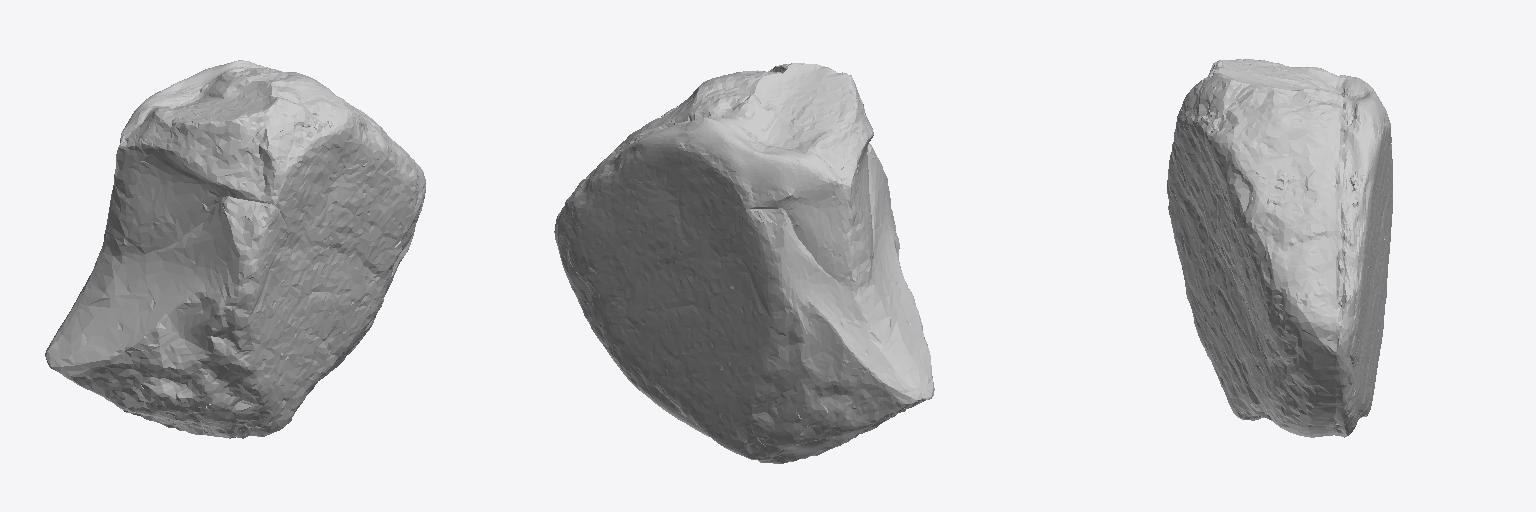
The model's file is waterfall_rock1.obj.
3 renders of one model, left to right at view 1: azimuth 30°, elevation 25°; view 2: azimuth 150°, elevation 25°; view 3: azimuth 270°, elevation 25°, orthographic.
Parts seen in each view (by area): view 1: Large_Rock_01.001_Large_Rock_01.001; view 2: Large_Rock_01.001_Large_Rock_01.001; view 3: Large_Rock_01.001_Large_Rock_01.001.
Boxes of the visible parts, x1=… form: Large_Rock_01.001_Large_Rock_01.001: x1=45, y1=60, x2=425, y2=438; Large_Rock_01.001_Large_Rock_01.001: x1=554, y1=63, x2=934, y2=463; Large_Rock_01.001_Large_Rock_01.001: x1=1167, y1=59, x2=1392, y2=437.
Bounding box in the file's own units: 0.7462 × 0.6795 × 0.3979.